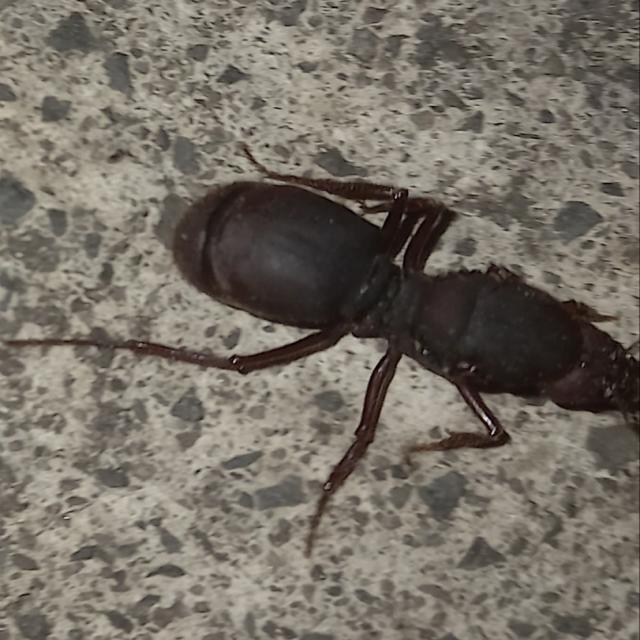Alive-Female-Dealate: (5, 146, 640, 560)
